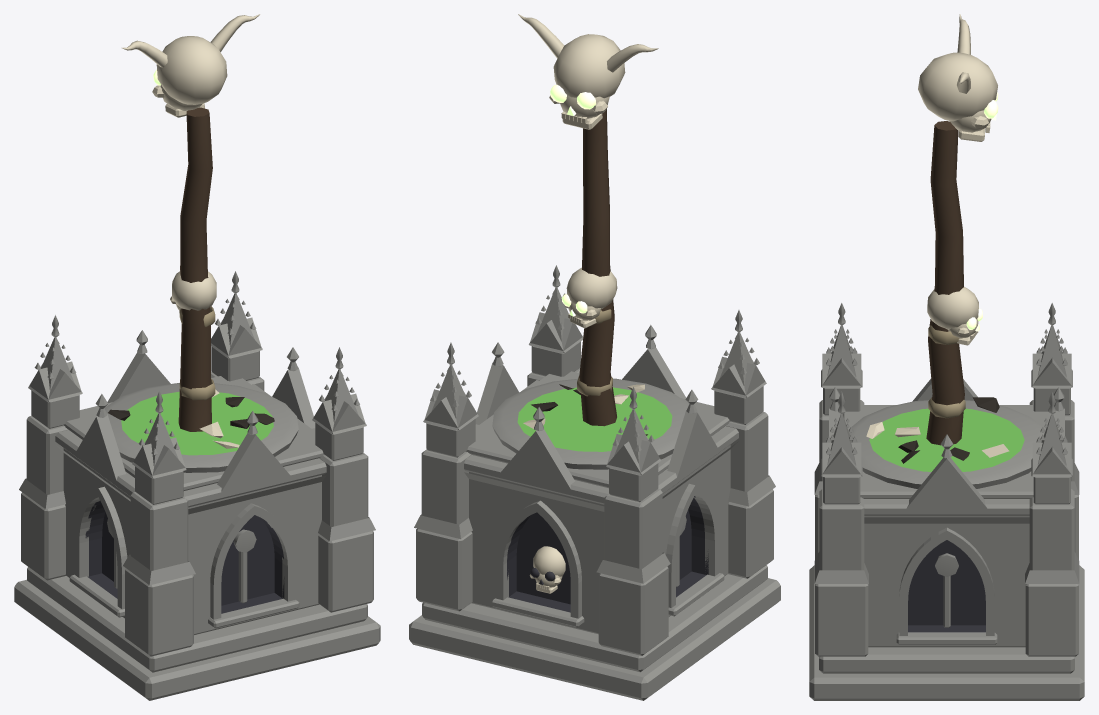
File: tower_plague_1.glb
3 renders of one model, left to right at view 1: azimuth 30°, elevation 25°; view 2: azimuth 150°, elevation 25°; view 3: azimuth 270°, elevation 25°, orthographic.
Visible parts, largest first — view 1: tower; view 2: tower; view 3: tower.
Boxes of the visible parts, left/top/right/bottom form: tower: left=14, top=14, right=380, bottom=700; tower: left=409, top=14, right=780, bottom=700; tower: left=809, top=14, right=1084, bottom=700.
Size of the model in its own units: 1.7 by 4.07 by 1.7.
